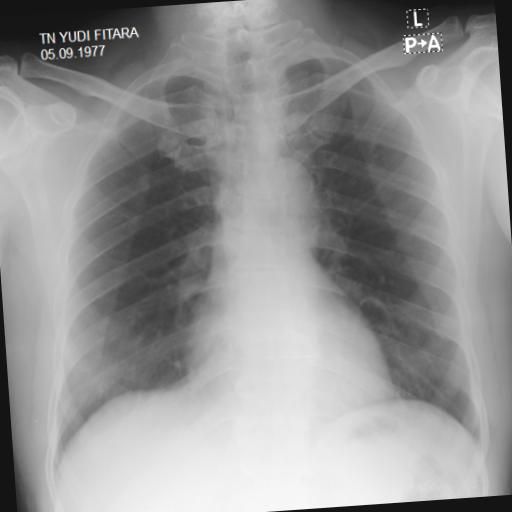normal: (10, 22, 502, 496)
